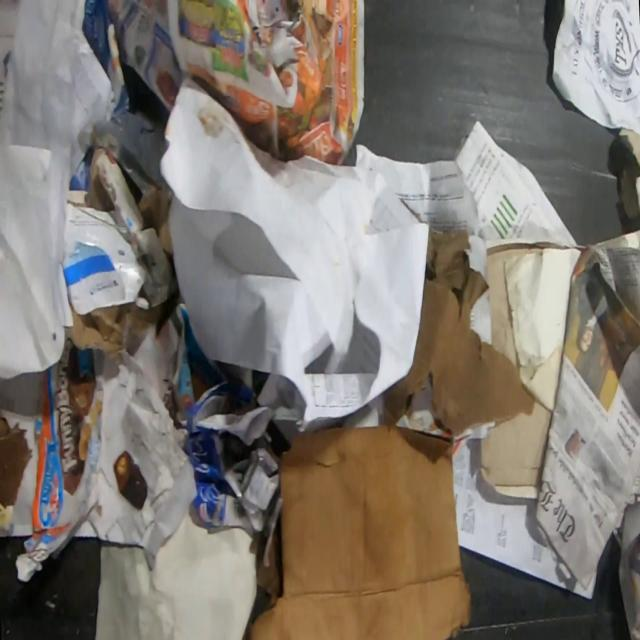cardboard: (247, 423, 472, 640), (380, 226, 534, 439), (54, 148, 178, 365), (0, 337, 108, 583), (173, 368, 281, 540), (478, 397, 553, 500), (82, 0, 124, 103), (618, 128, 640, 221), (190, 367, 212, 402)
rigid_plastic: (91, 83, 170, 197)
